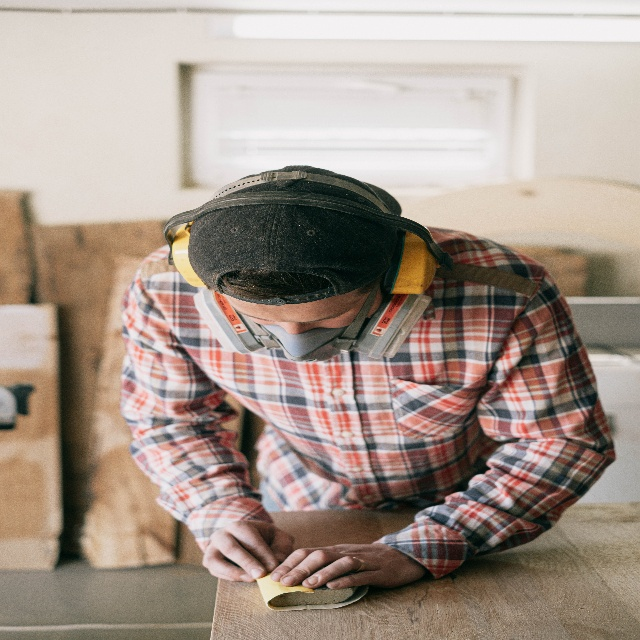Sin_guantes: (270, 542, 426, 586), (202, 517, 295, 583)
